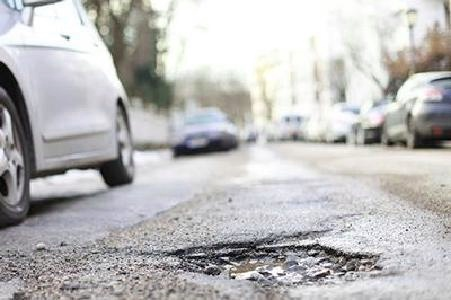pothole: (169, 226, 382, 288)
